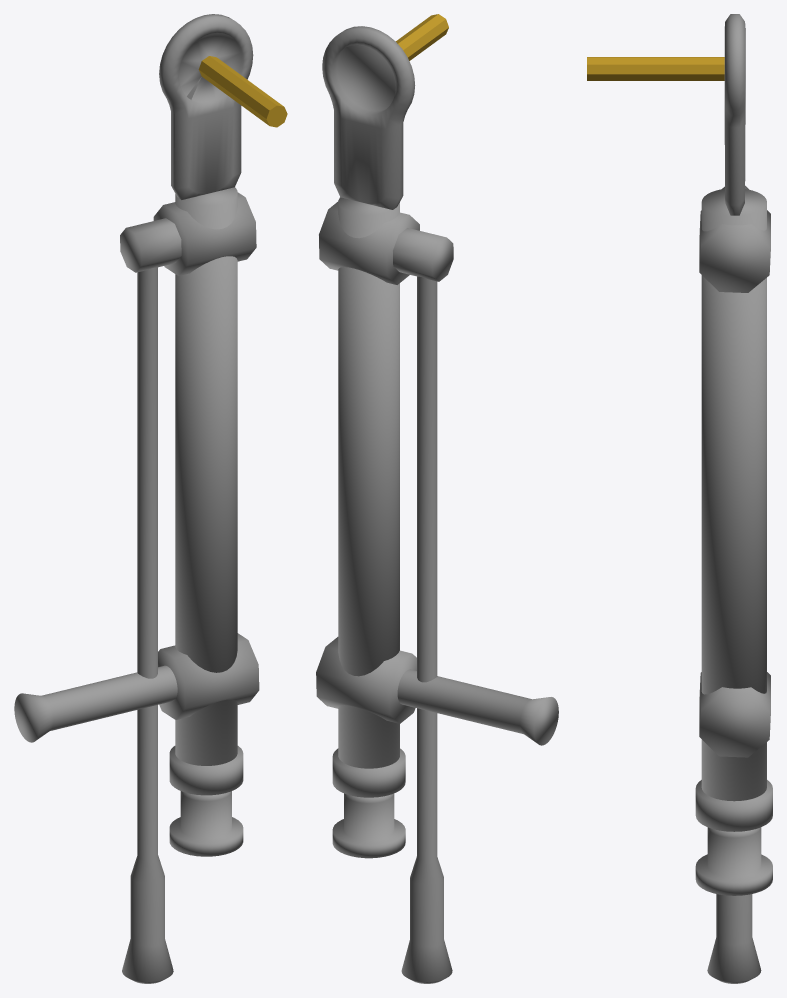
Rendered from TorqueRatchet.fbx.
3 renders of one model, left to right at view 1: azimuth 30°, elevation 25°; view 2: azimuth 150°, elevation 25°; view 3: azimuth 270°, elevation 25°, orthographic. The views are drawn at different scales.
Visible parts, largest first — view 1: TorqueRatchet; view 2: TorqueRatchet; view 3: TorqueRatchet.
Part boxes in pixels (bbox=[...]): TorqueRatchet: bbox=[14, 14, 287, 983]; TorqueRatchet: bbox=[316, 14, 558, 983]; TorqueRatchet: bbox=[587, 14, 772, 983].
Bounding box in the file's own units: 5.74 × 23.1 × 3.94.
